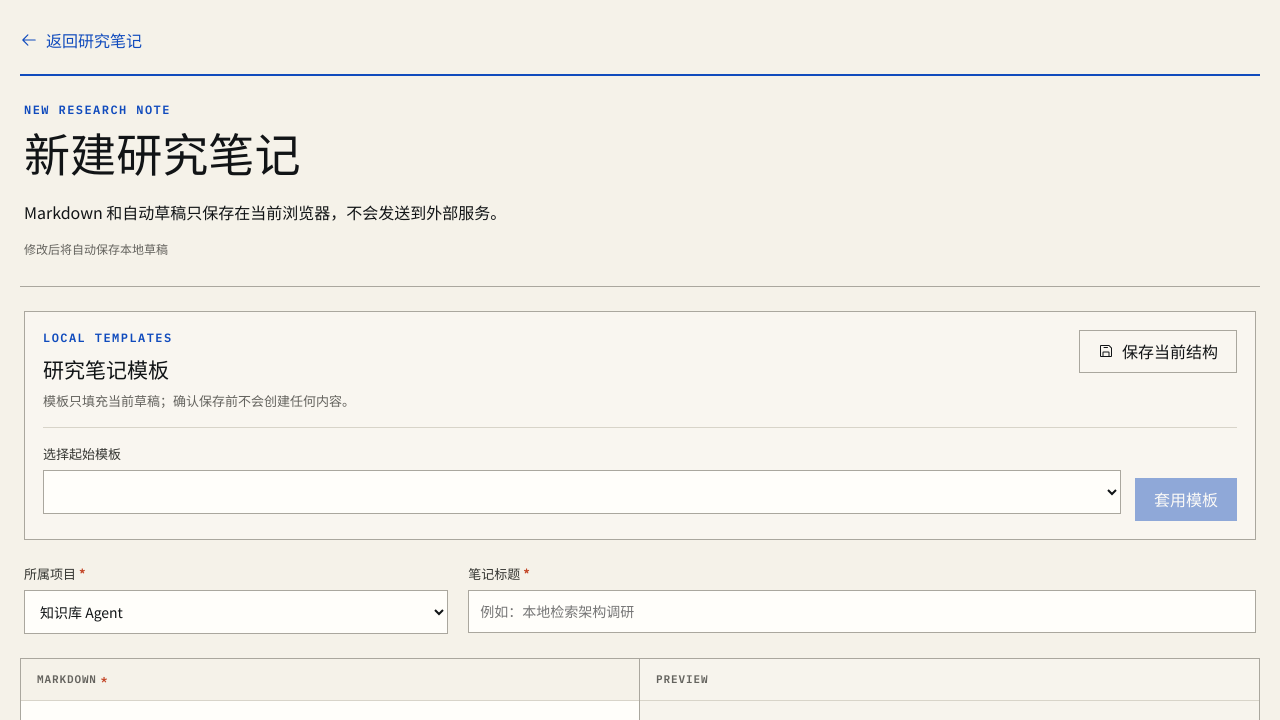
ResearchNotePage › 使用可控计时器防抖保存草稿并显示保存状态
Type "自动草稿" into the field labelled "笔记标题 *".
click(862, 611); type("自动草稿")  # box [468,590,1256,633]
Wait 700 ms
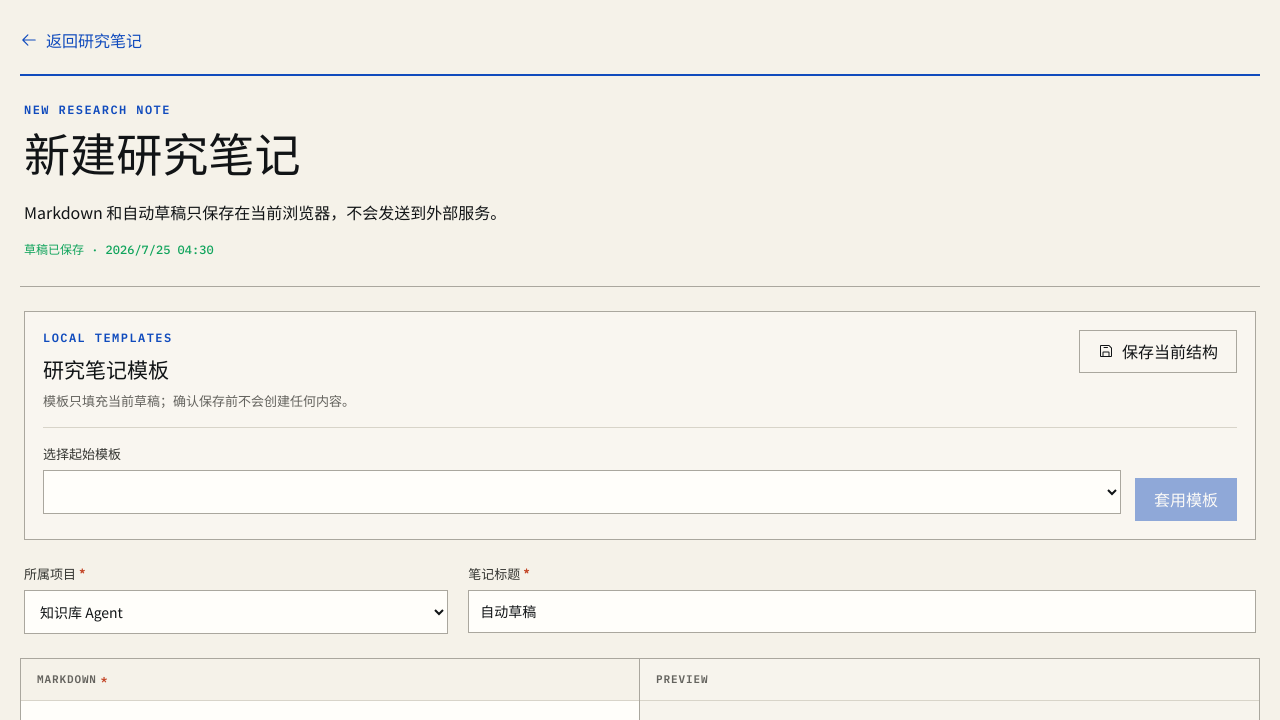
Expected: the text "草稿已保存 · 2026/7/25 04:30" is shown, [24,242,214,257]
